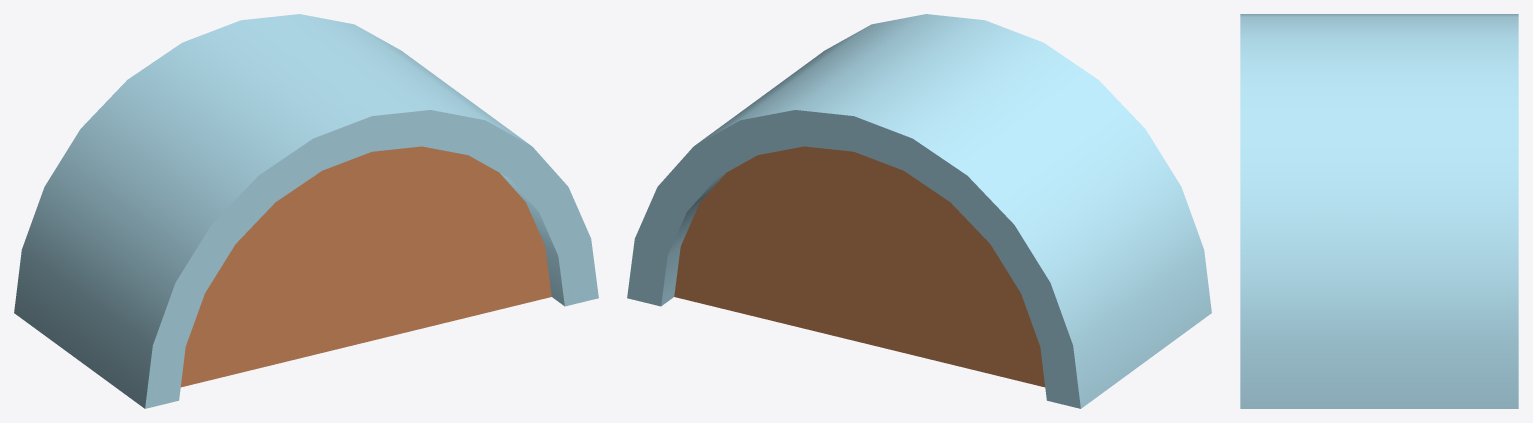
File: blockSnowCurve.obj
3 renders of one model, left to right at view 1: azimuth 30°, elevation 25°; view 2: azimuth 150°, elevation 25°; view 3: azimuth 270°, elevation 25°, orthographic. The views are drawn at different scales.
Visible parts, largest first — view 1: blockSnowCurve; view 2: blockSnowCurve; view 3: blockSnowCurve.
Boxes of the visible parts, x1=… form: blockSnowCurve: x1=14, y1=14, x2=598, y2=408; blockSnowCurve: x1=627, y1=14, x2=1211, y2=408; blockSnowCurve: x1=1240, y1=14, x2=1518, y2=408.
Bounding box in the file's own units: 2 × 1 × 1.
